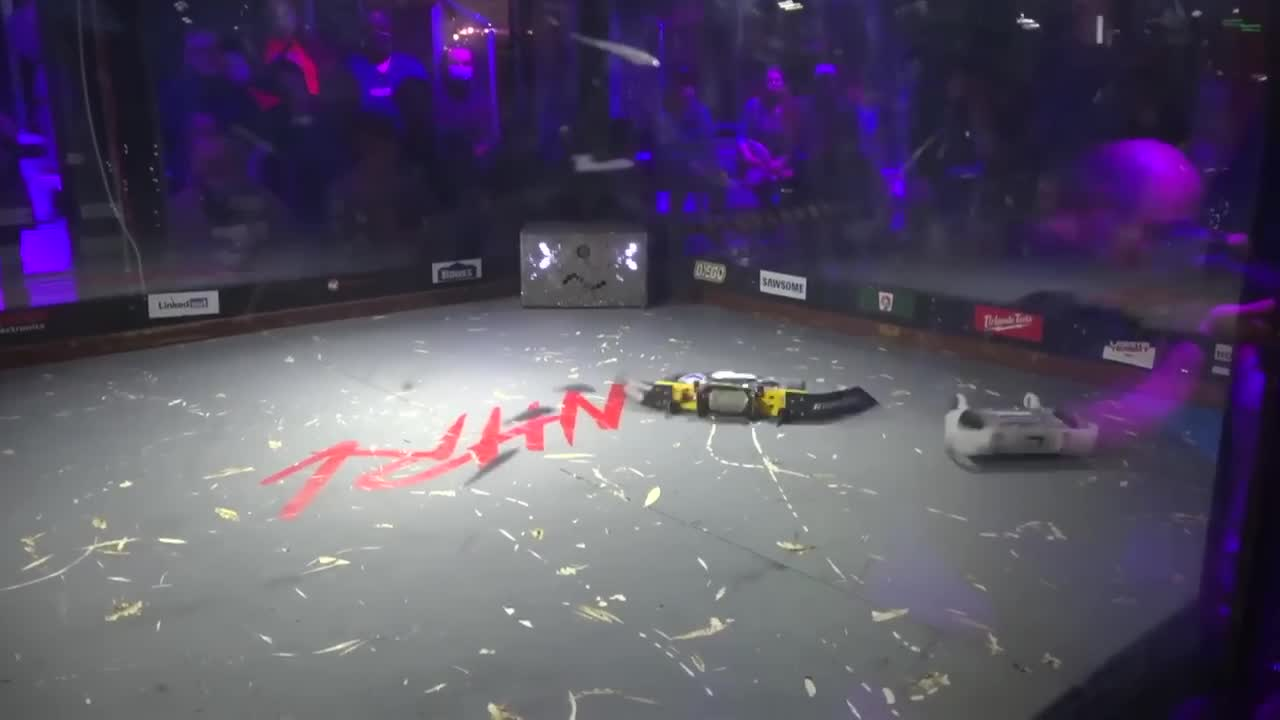combatbot: (642, 372, 880, 422), (944, 402, 1101, 459)
housebot: (517, 225, 668, 312)
